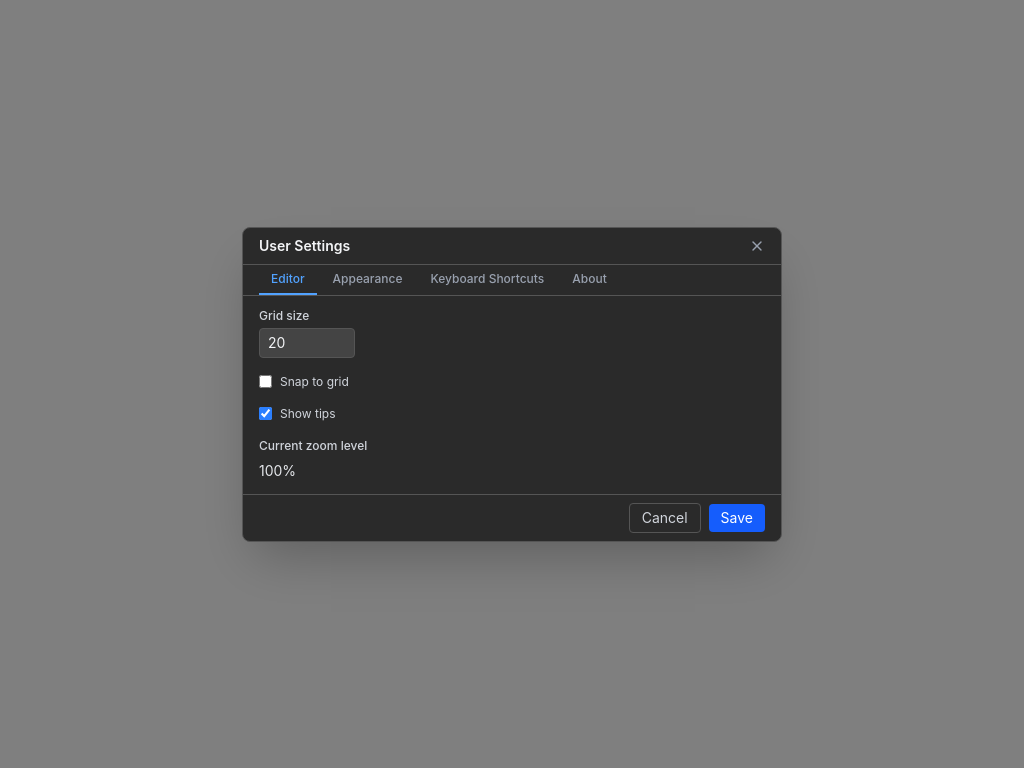
it: UserSettingsDialog › tab switching › switches to About tab
Click the button "About".
click(590, 280)  # box [560, 264, 619, 294]
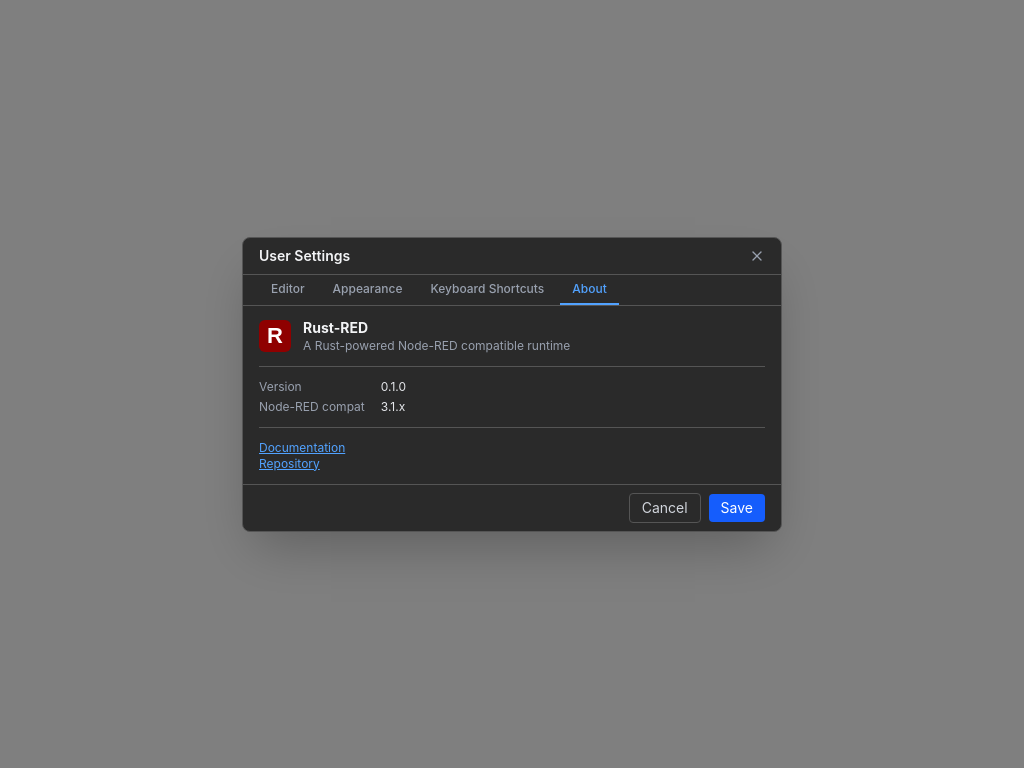
Now the text "0.1.0" is shown, box [381, 378, 406, 394]
Now the text "3.1.x" is shown, box [381, 398, 405, 414]
